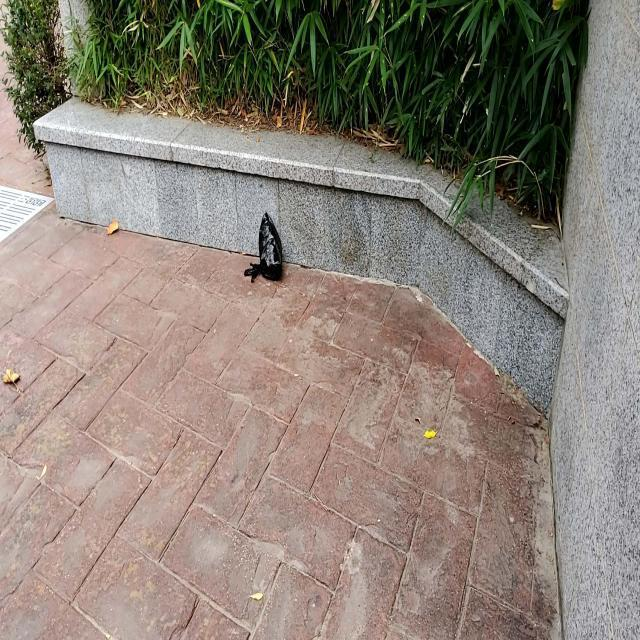Trashbag: (242, 206, 300, 290)
